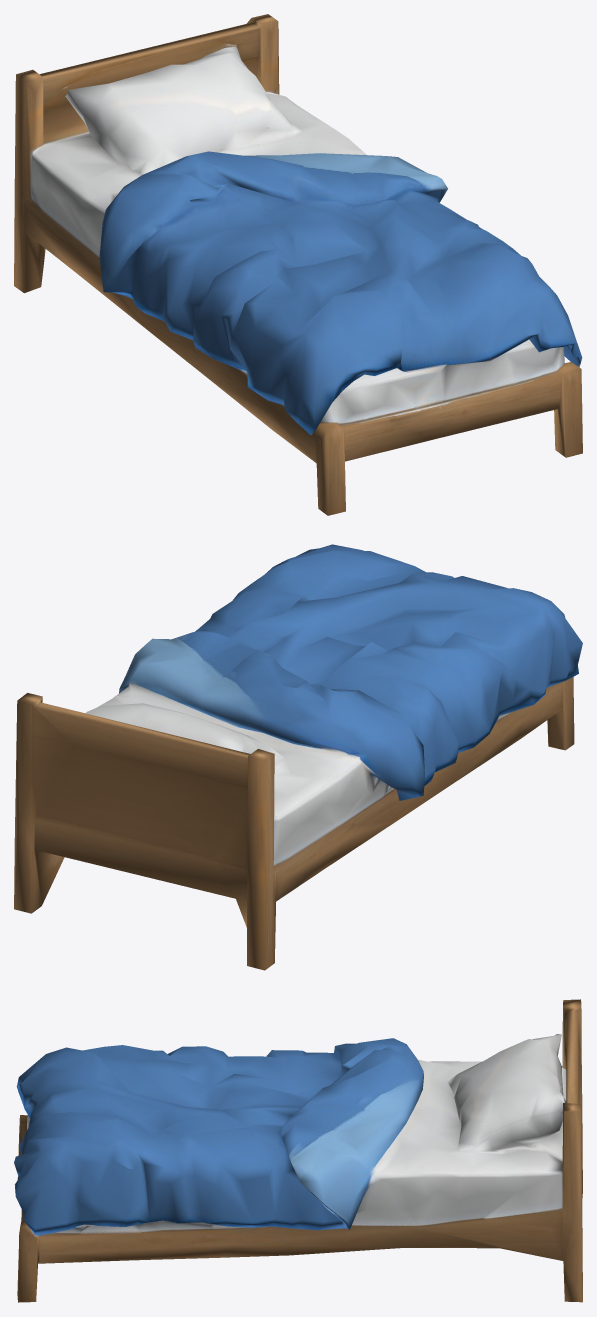
Rendered from bed.glb.
3 renders of one model, top to bottom at view 1: azimuth 30°, elevation 25°; view 2: azimuth 150°, elevation 25°; view 3: azimuth 270°, elevation 25°, orthographic. The views are drawn at different scales.
Parts seen in each view (by area): view 1: bed; view 2: bed; view 3: bed.
Boxes of the visible parts, x1,y1,x2,y2 form: bed: [14, 14, 582, 515]; bed: [14, 544, 582, 970]; bed: [14, 999, 582, 1302].
Bounding box in the file's own units: 1.17 × 0.7429 × 2.
Materials: 1 (1 with a texture image).
